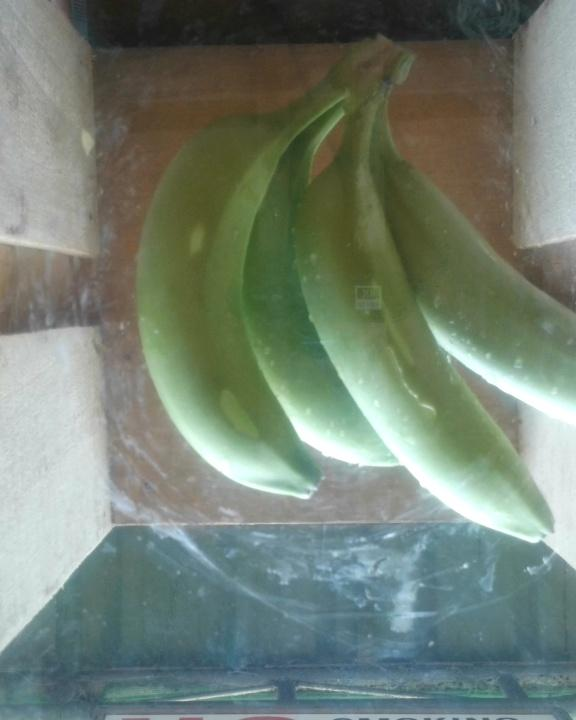SPOT: (128, 25, 576, 556)
